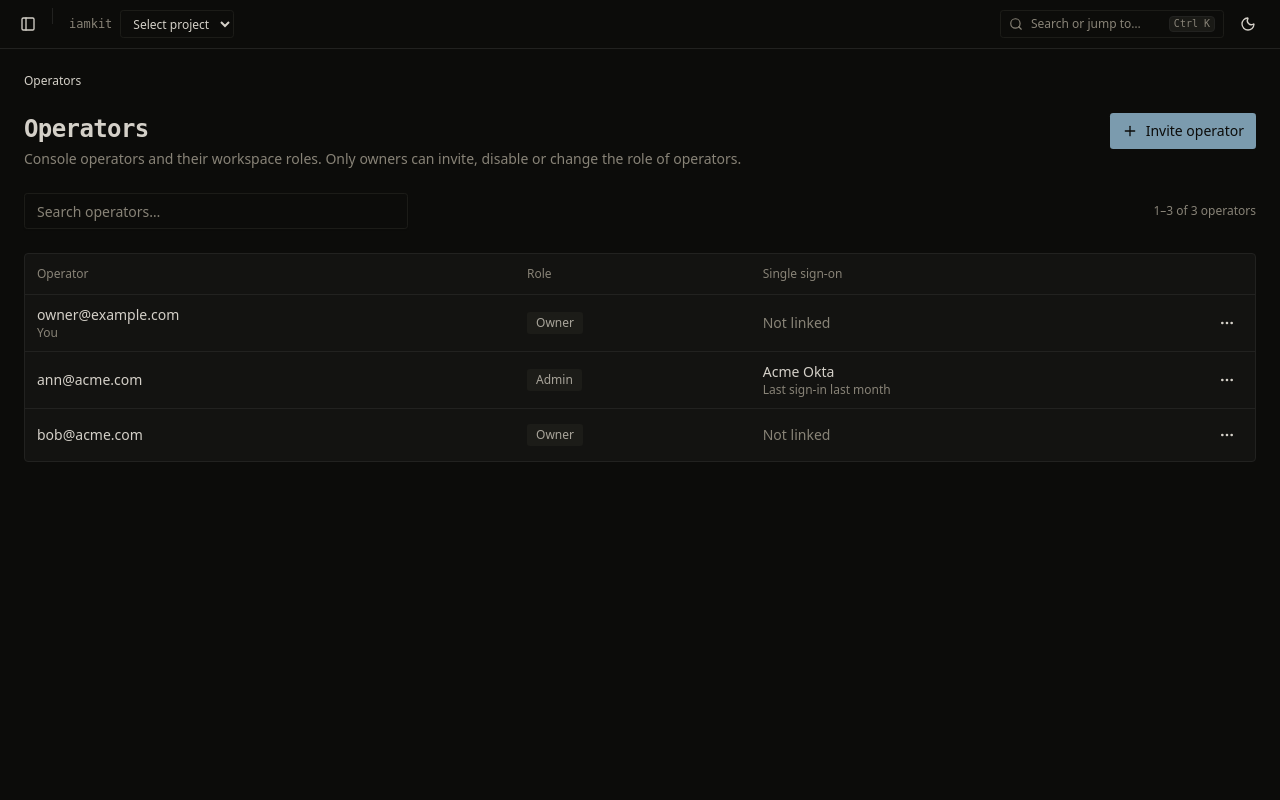
Test case: tells the owner how an invited operator signs in
Click the button "Invite operator" at coordinates (1183, 131), box [1110,113,1256,149]
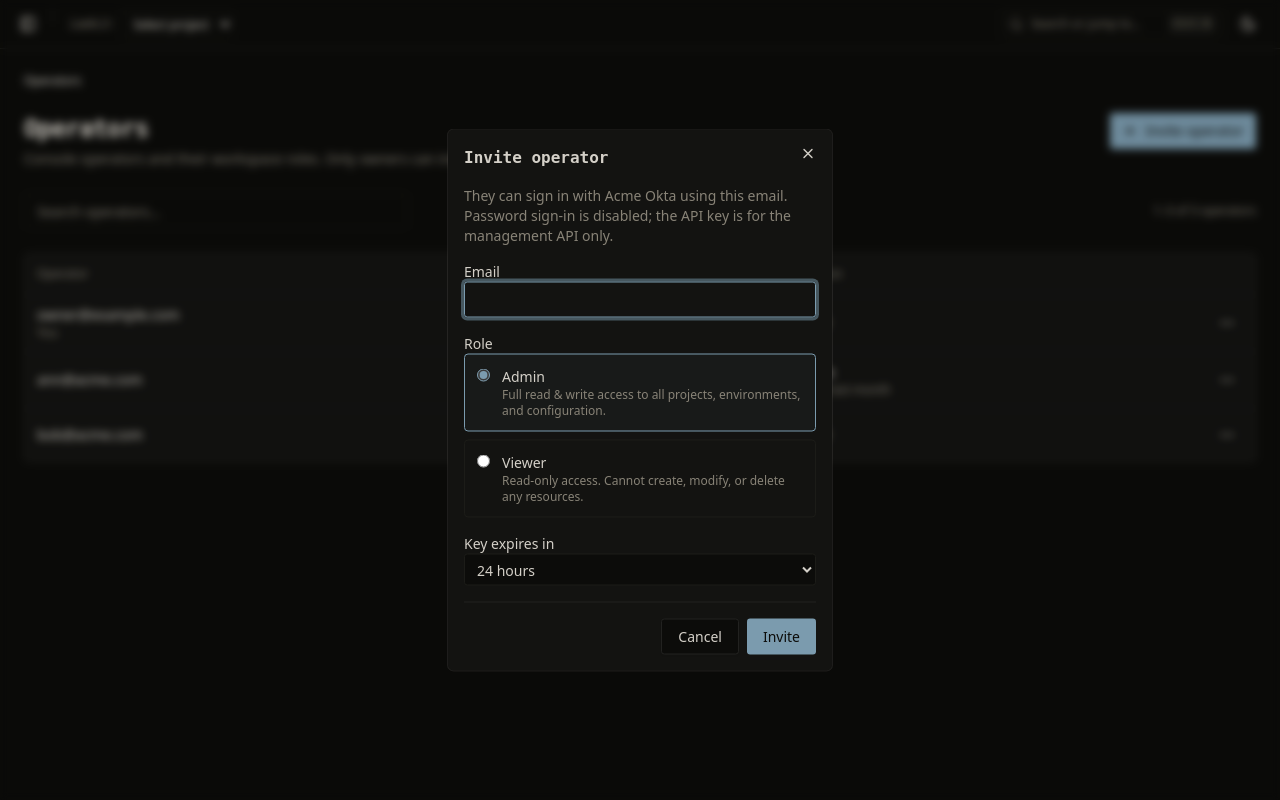
Check: the text "They can sign in with Acme Okta using this email." is shown, box [464,186,787,204]
Check: the text "Password sign-in is disabled" is shown, box [464,206,791,244]
